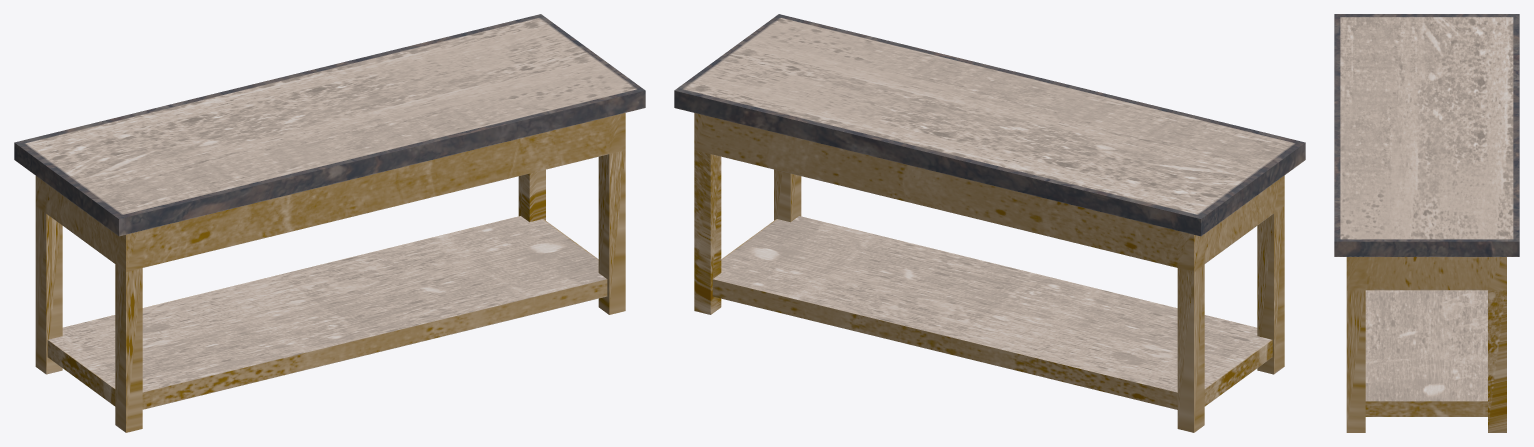
Rendered from labTable2.fbx.
The picture shows the model from 3 angles, left to right: view 1: azimuth 30°, elevation 25°; view 2: azimuth 150°, elevation 25°; view 3: azimuth 270°, elevation 25°; orthographic projection. The views are drawn at different scales.
Parts seen in each view (by area): view 1: TablePlate.001; view 2: TablePlate.001; view 3: TablePlate.001.
Boxes of the visible parts, left/top/right/bottom form: TablePlate.001: left=14, top=14, right=645, bottom=432; TablePlate.001: left=674, top=14, right=1305, bottom=432; TablePlate.001: left=1334, top=14, right=1519, bottom=432.
Bounding box in the file's own units: 7.4 × 2.99 × 2.55.
Materials: 1 (1 with a texture image).
